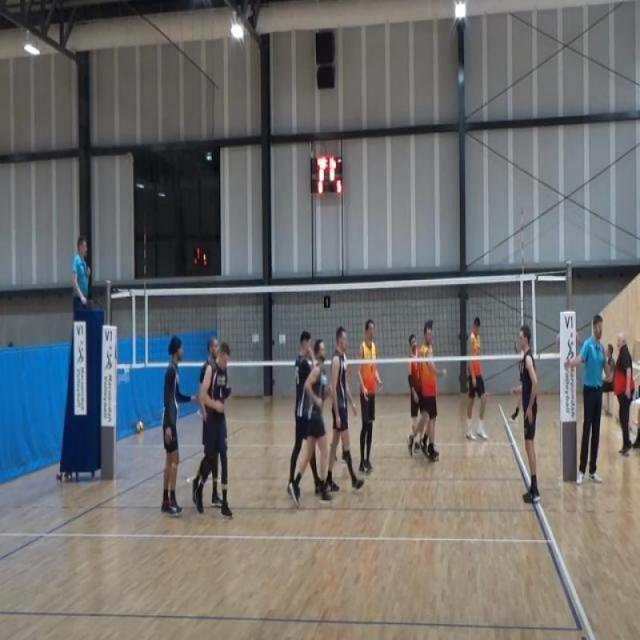volleyball: (136, 418, 144, 436)
